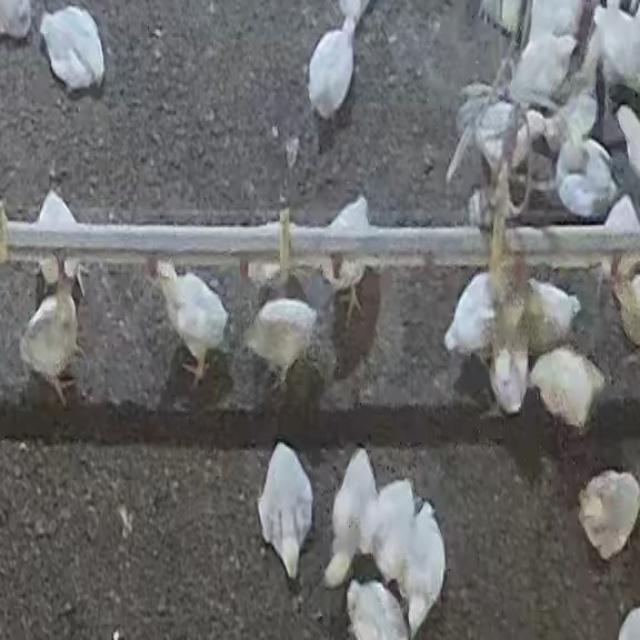chicken: (143, 262, 225, 381), (21, 276, 84, 405), (258, 442, 314, 582), (243, 296, 317, 391), (325, 448, 375, 588), (321, 194, 377, 318), (529, 345, 604, 433), (38, 4, 105, 92), (402, 500, 446, 633), (508, 30, 576, 115), (32, 189, 87, 292), (305, 15, 356, 118), (579, 471, 639, 558), (554, 135, 615, 219), (443, 272, 496, 358), (593, 1, 640, 94), (374, 472, 417, 573), (524, 278, 580, 351), (479, 344, 536, 406)
